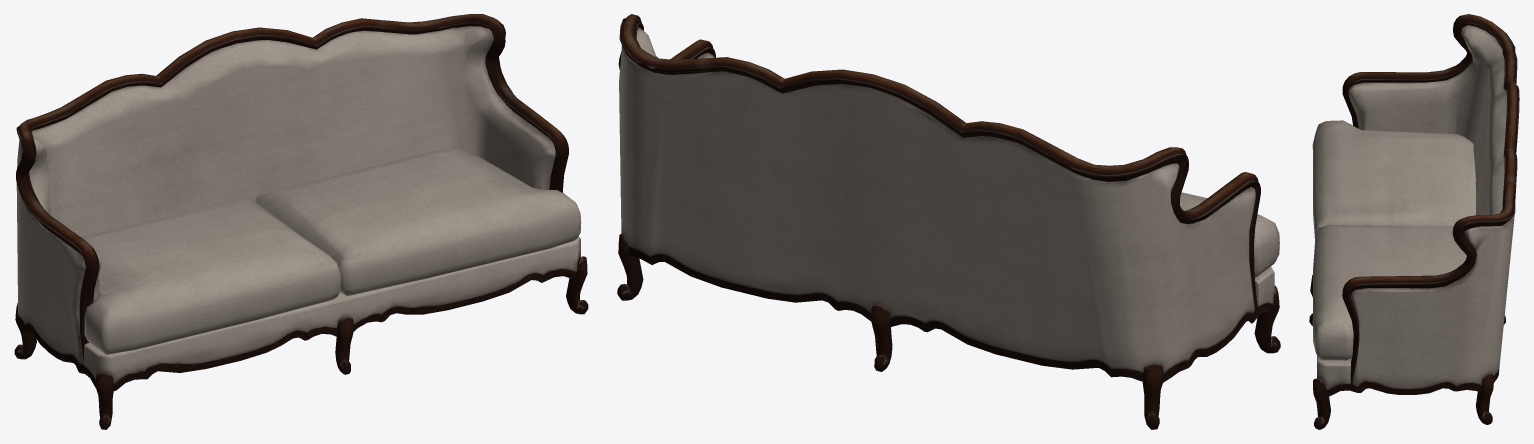
File: Sofa_01.glb
3 renders of one model, left to right at view 1: azimuth 30°, elevation 25°; view 2: azimuth 150°, elevation 25°; view 3: azimuth 270°, elevation 25°, orthographic. The views are drawn at different scales.
Parts seen in each view (by area): view 1: Sofa_01; view 2: Sofa_01; view 3: Sofa_01.
Part boxes in pixels (left/top/right/bottom): Sofa_01: left=14, top=14, right=588, bottom=429; Sofa_01: left=617, top=14, right=1280, bottom=429; Sofa_01: left=1309, top=14, right=1519, bottom=429.
Size of the model in its own units: 1.57 by 0.7966 by 0.658.
1 material, 1 textured.
